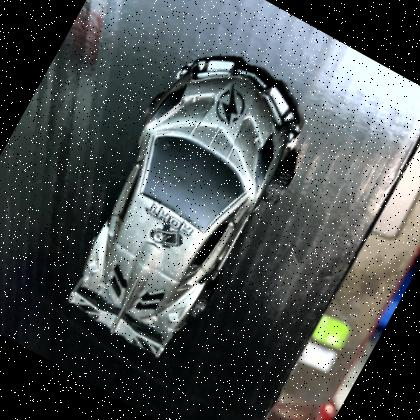Car: (69, 55, 302, 356)
